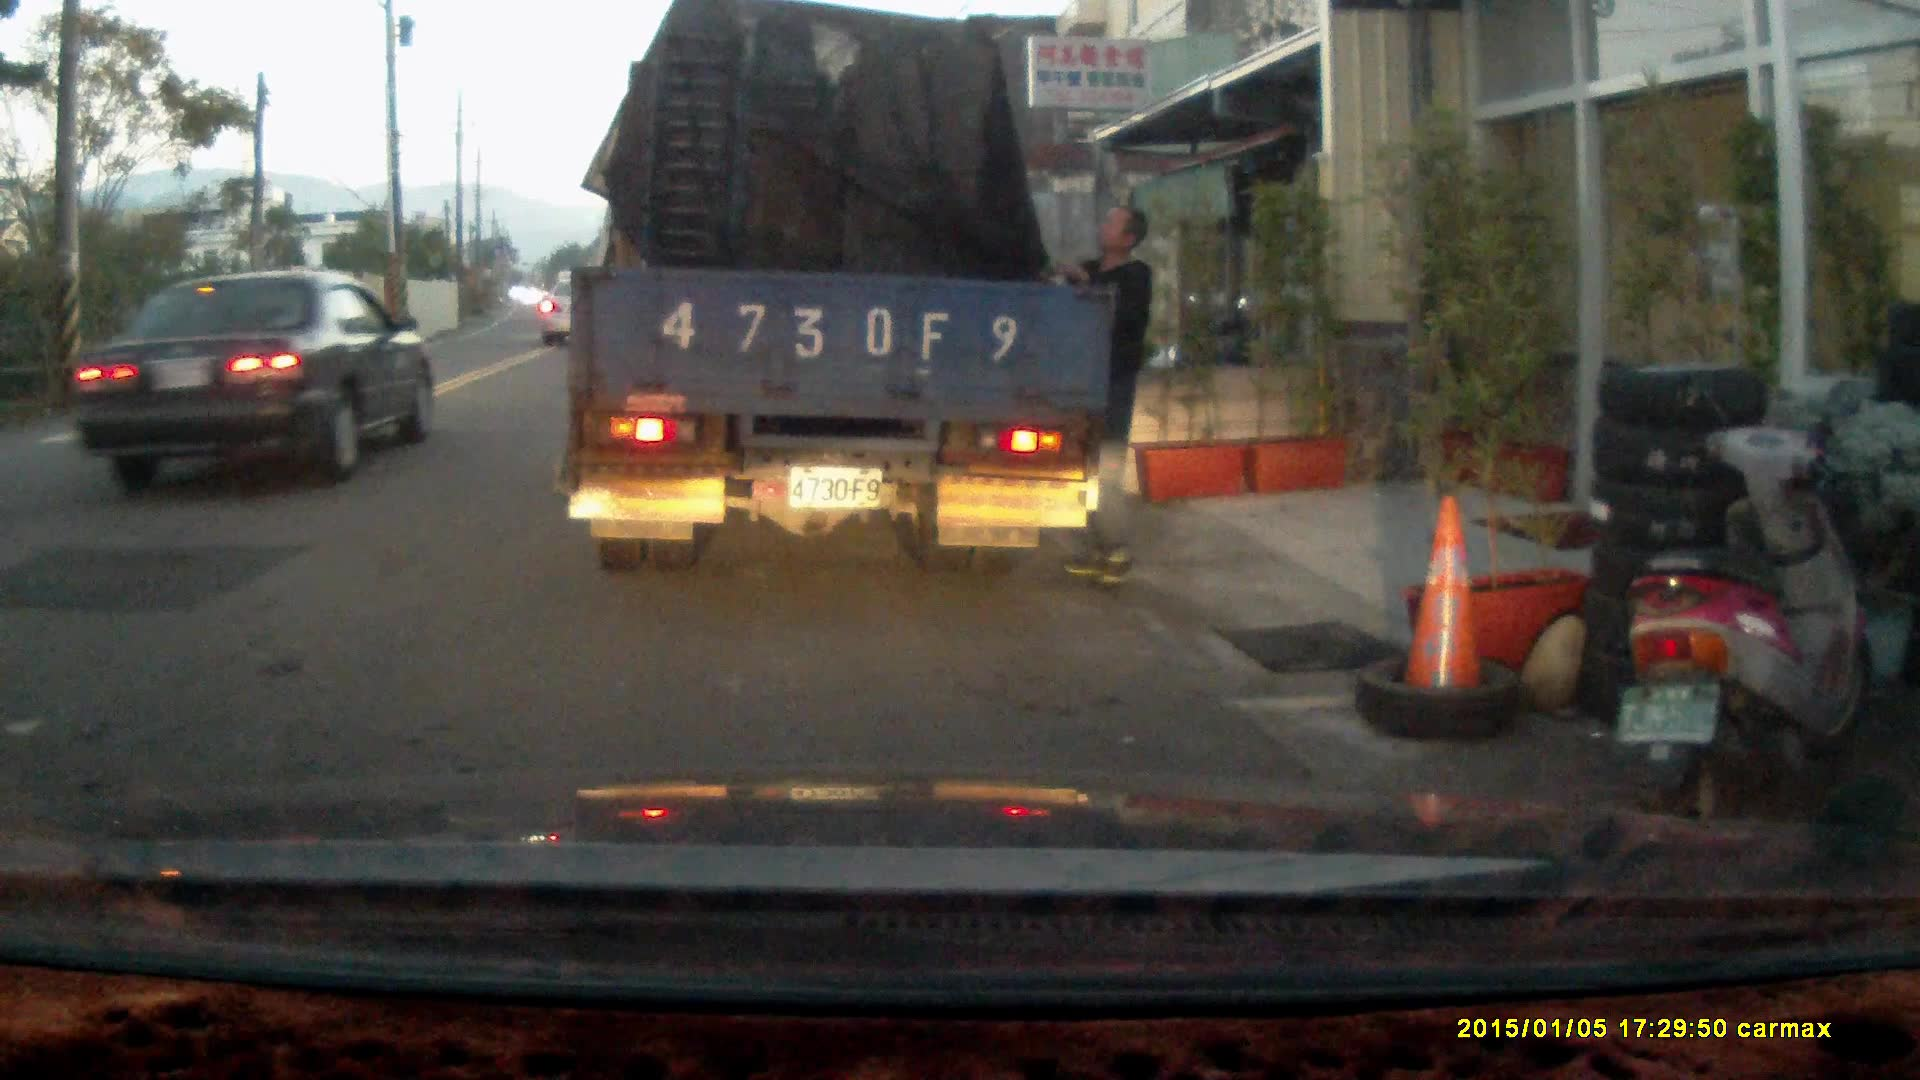pedestrian: (1040, 200, 1154, 586)
vehicle: (567, 23, 1101, 572), (45, 270, 422, 495)
